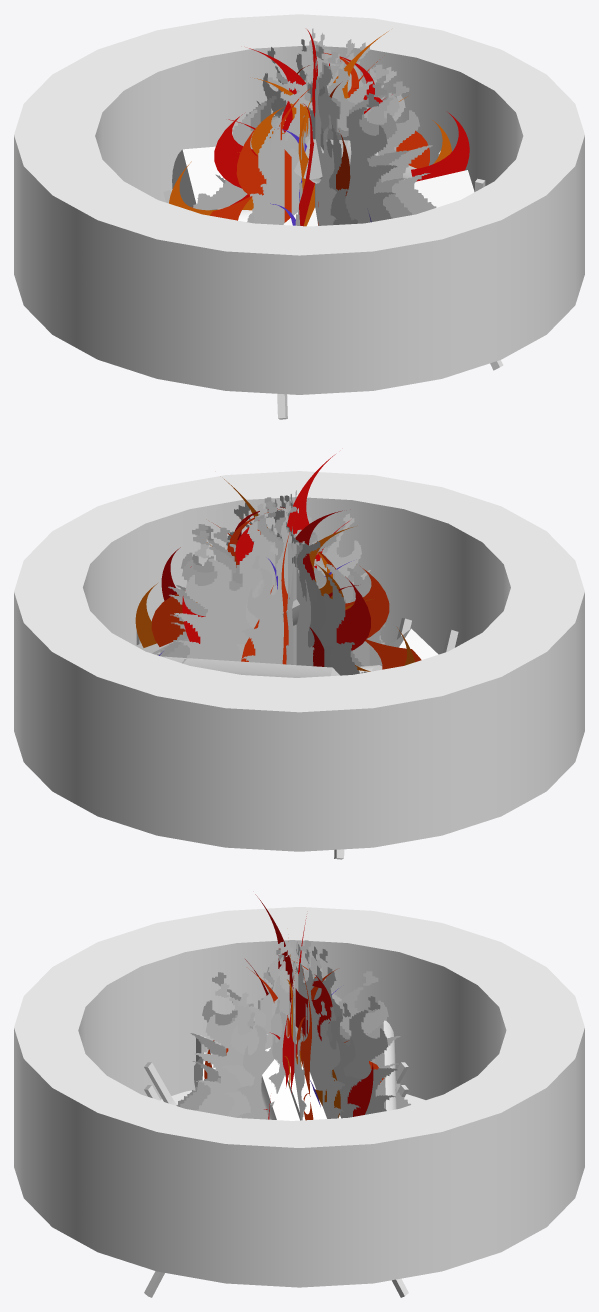
Rendered from Fire Pit.fbx.
3 renders of one model, top to bottom at view 1: azimuth 30°, elevation 25°; view 2: azimuth 150°, elevation 25°; view 3: azimuth 270°, elevation 25°, orthographic.
Parts seen in each view (by area): view 1: Layer0_001, Fire_001, Component#1_008, Component#1_011, Component#1_010, Component#1_001, Component#1_006, Component#1_002, Group_014, Component#1_004, Group_015, Component#1_009 (+3 smaller); view 2: Layer0_001, Fire_001, Component#1_005, Component#1_007, Component#1_002, Component#1_006, Group_014, Component#1_003, Component#1_004, Component#1_001, Component#1_010, Component#1_011 (+2 smaller); view 3: Layer0_001, Fire_001, Component#1_008, Component#1_005, Component#1_002, Component#1_011, Group_013, Component#1_001, Component#1_007, Component#1_010, Component#1_004, Component#1_003 (+5 smaller).
Part boxes in pixels (x1,y1,x2,y2): Layer0_001: (14, 14, 584, 394); Fire_001: (169, 29, 469, 226); Component#1_008: (260, 46, 397, 223); Component#1_011: (271, 52, 436, 214); Component#1_010: (247, 44, 363, 224); Component#1_001: (215, 45, 411, 218); Component#1_006: (193, 40, 404, 210); Component#1_002: (256, 39, 357, 224); Group_014: (172, 146, 225, 207); Component#1_004: (306, 58, 336, 225); Group_015: (283, 170, 474, 226); Component#1_009: (285, 54, 405, 215); Layer0_001: (14, 471, 584, 851); Fire_001: (135, 454, 421, 671); Component#1_005: (174, 503, 326, 663); Component#1_007: (165, 501, 387, 666); Component#1_002: (241, 501, 325, 664); Component#1_006: (226, 495, 366, 675); Group_014: (161, 656, 339, 677); Component#1_003: (157, 497, 382, 665); Component#1_004: (237, 508, 384, 661); Component#1_001: (271, 494, 314, 666); Component#1_010: (204, 501, 385, 646); Component#1_011: (241, 495, 333, 667); Layer0_001: (14, 907, 584, 1287); Fire_001: (204, 894, 384, 1120); Component#1_008: (194, 941, 400, 1116); Component#1_005: (302, 949, 397, 1114); Component#1_002: (180, 940, 410, 1110); Component#1_011: (237, 956, 289, 1119); Group_013: (261, 1034, 340, 1120); Component#1_001: (222, 943, 341, 1118); Component#1_007: (293, 946, 361, 1118); Component#1_010: (268, 944, 335, 1118); Component#1_004: (176, 949, 351, 1106); Component#1_003: (301, 949, 345, 1118).
Size of the model in its own units: 48 by 31.54 by 48.
